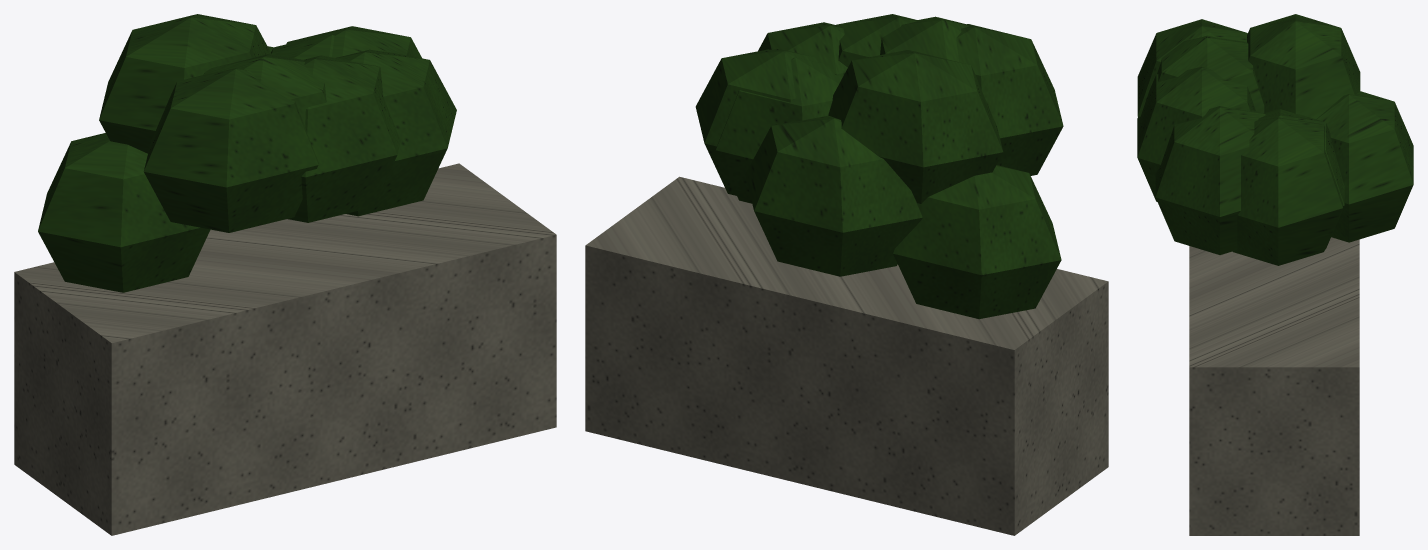
The model's file is PROP-595EFDBBC346_lod2.glb.
3 views of the same model, side by side, from view 1: azimuth 30°, elevation 25°; view 2: azimuth 150°, elevation 25°; view 3: azimuth 270°, elevation 25° (orthographic). The views are drawn at different scales.
Parts seen in each view (by area): view 1: planter.001, foliage.014; view 2: planter.001, foliage.014; view 3: foliage.014, planter.001.
Part boxes in pixels (x1,y1,x2,y2): planter.001: (14, 163, 556, 535); foliage.014: (38, 14, 456, 292); planter.001: (585, 176, 1108, 535); foliage.014: (695, 14, 1063, 319); foliage.014: (1137, 14, 1413, 265); planter.001: (1189, 237, 1359, 535).
Bounding box in the file's own units: 1.49 × 1.37 × 0.8909.
Materials: 2 (2 with a texture image).
